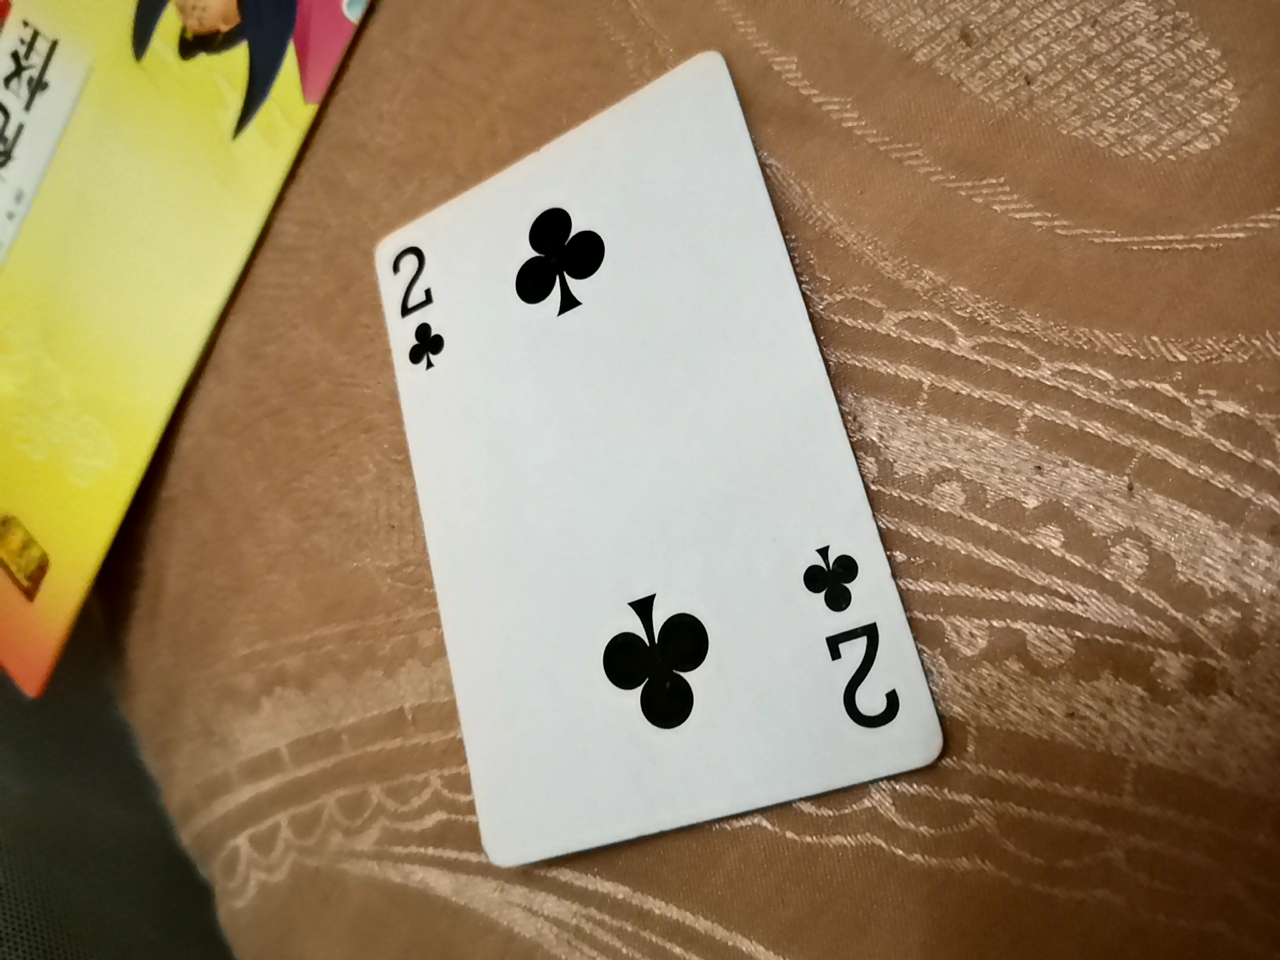mh 2: (370, 56, 920, 880)
